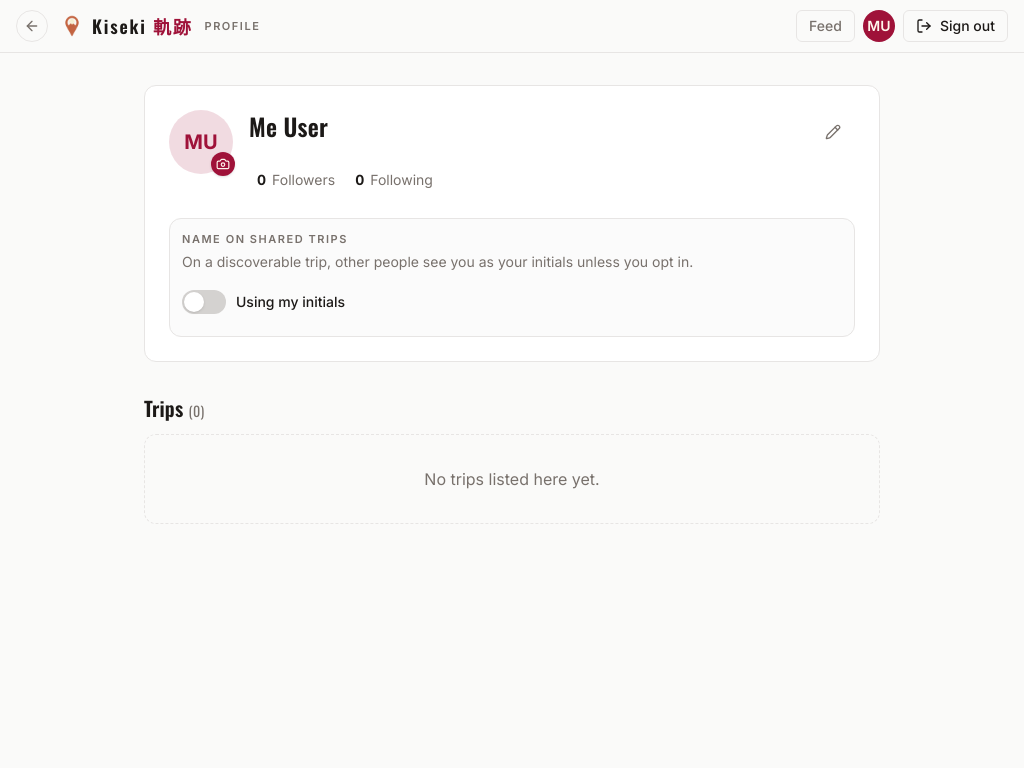
Test case: ProfilePage — your own profile (viewer.isSelf) › toggling publicName PUTs /api/me with {"publicName": …} and flips the label
The image size is (1024, 768).
Step 1. Click the switch labelled "Using my initials" → (264, 302), box [182, 280, 345, 324]
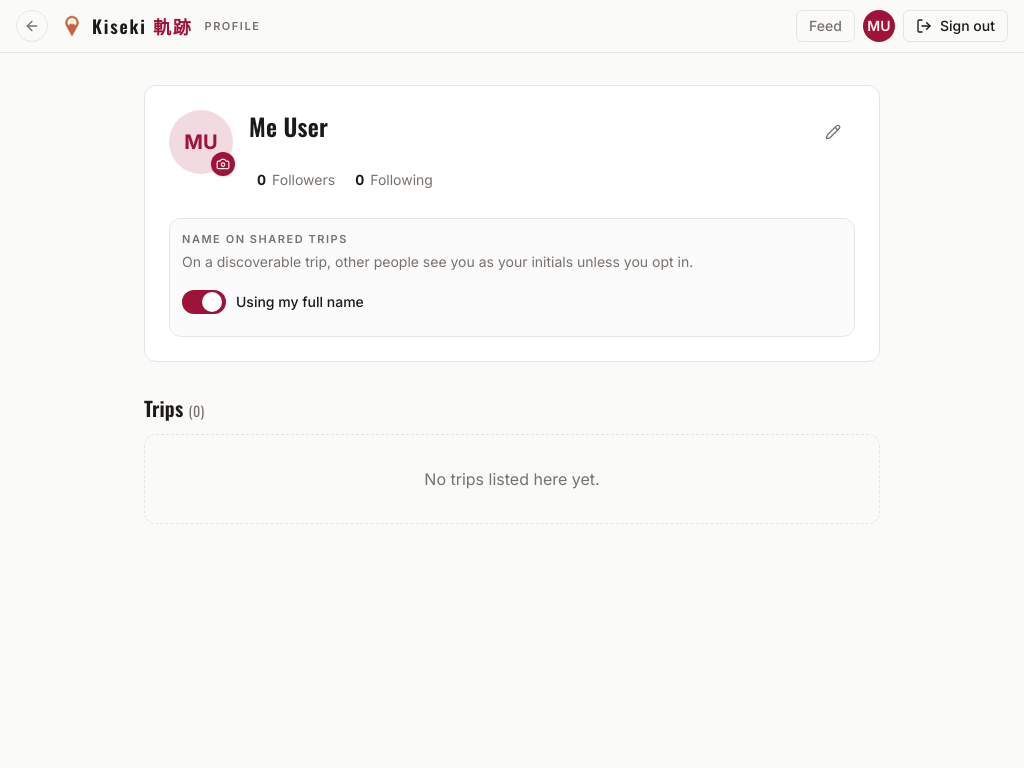
Expected: the switch labelled "Using my full name" is shown, [182, 280, 364, 324]
